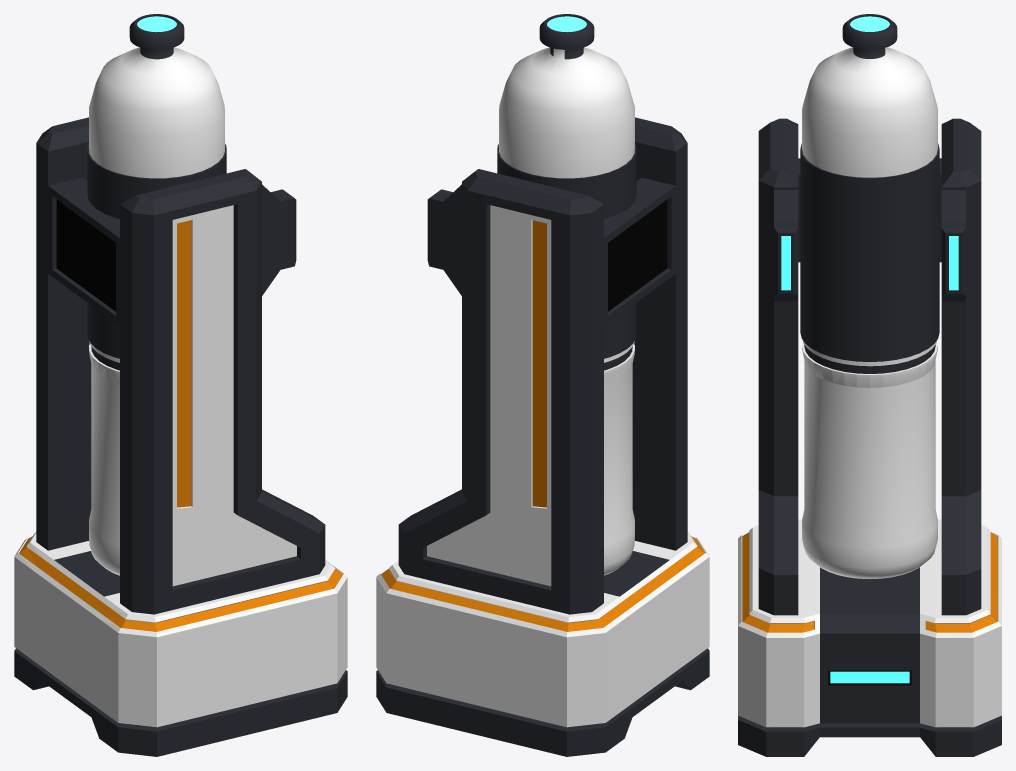
Rendered from SM_Oxygen_Cylinder_Stand.fbx.
The picture shows the model from 3 angles, left to right: view 1: azimuth 30°, elevation 25°; view 2: azimuth 150°, elevation 25°; view 3: azimuth 270°, elevation 25°; orthographic projection.
Parts seen in each view (by area): view 1: SM_Oxygen_Cylinder_Stand_Body.001, SM_Oxygen_Cylinder_Stand_Tank.001; view 2: SM_Oxygen_Cylinder_Stand_Body.001, SM_Oxygen_Cylinder_Stand_Tank.001; view 3: SM_Oxygen_Cylinder_Stand_Body.001, SM_Oxygen_Cylinder_Stand_Tank.001.
Part boxes in pixels (x1,y1,x2,y2): SM_Oxygen_Cylinder_Stand_Body.001: [14, 117, 347, 756]; SM_Oxygen_Cylinder_Stand_Tank.001: [87, 14, 226, 575]; SM_Oxygen_Cylinder_Stand_Body.001: [376, 117, 709, 756]; SM_Oxygen_Cylinder_Stand_Tank.001: [497, 14, 636, 575]; SM_Oxygen_Cylinder_Stand_Body.001: [738, 118, 1001, 756]; SM_Oxygen_Cylinder_Stand_Tank.001: [800, 14, 939, 578].
Size of the model in its own units: 40 by 111 by 40.
